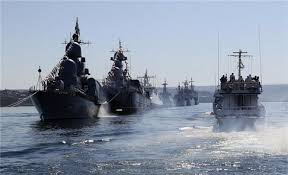tau_dansu: (27, 42, 105, 128)
tau_muctieu: (212, 56, 268, 132), (104, 48, 153, 113), (153, 74, 174, 111), (175, 80, 190, 109)
